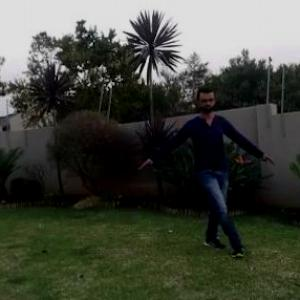land: (136, 86, 266, 245)
